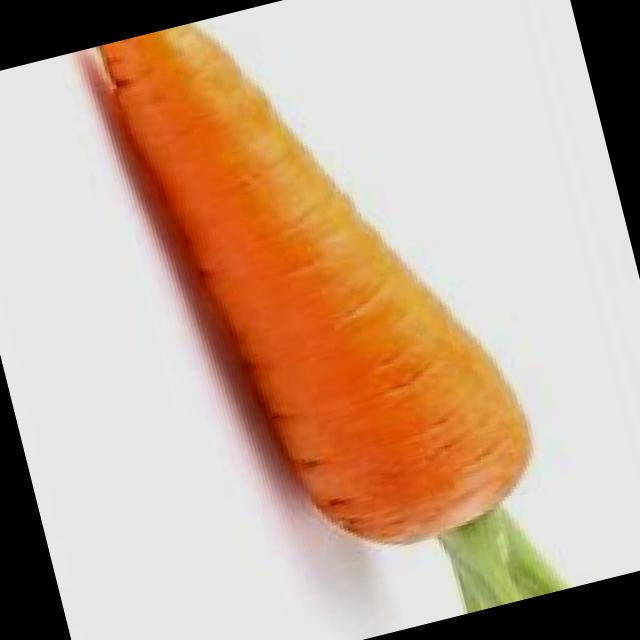carrot: (93, 22, 529, 547)
